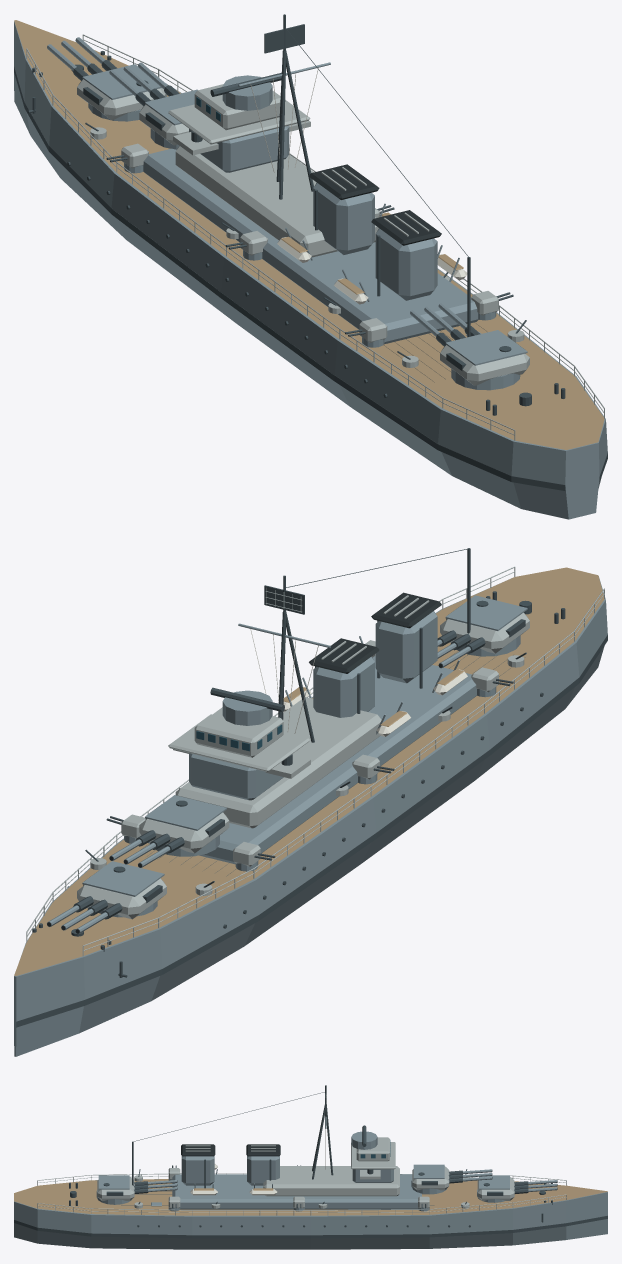
Rendered from battleship.glb.
3 views of the same model, one above another, from view 1: azimuth 30°, elevation 25°; view 2: azimuth 150°, elevation 25°; view 3: azimuth 270°, elevation 25° (orthographic). The views are drawn at different scales.
Visible parts, largest first — view 1: battleship_StaticDetail, MainTurret_2_Guns, MainTurret_0_Guns, MainTurret_1_Guns; view 2: battleship_StaticDetail, MainTurret_1_Guns, MainTurret_0_Guns, MainTurret_2_Guns; view 3: battleship_StaticDetail, MainTurret_1_Guns, MainTurret_2_Guns, MainTurret_0_Guns.
Boxes of the visible parts, x1,y1,x2,y2 form: battleship_StaticDetail: [14, 14, 607, 519]; MainTurret_2_Guns: [410, 303, 529, 390]; MainTurret_0_Guns: [47, 37, 166, 121]; MainTurret_1_Guns: [109, 62, 197, 149]; battleship_StaticDetail: [14, 548, 607, 1056]; MainTurret_1_Guns: [109, 795, 229, 867]; MainTurret_0_Guns: [47, 861, 166, 933]; MainTurret_2_Guns: [437, 595, 529, 668]; battleship_StaticDetail: [14, 1085, 607, 1249]; MainTurret_1_Guns: [411, 1164, 492, 1194]; MainTurret_2_Guns: [96, 1175, 177, 1204]; MainTurret_0_Guns: [477, 1175, 557, 1202].
Size of the model in its own units: 14.4 by 23.7 by 86.
